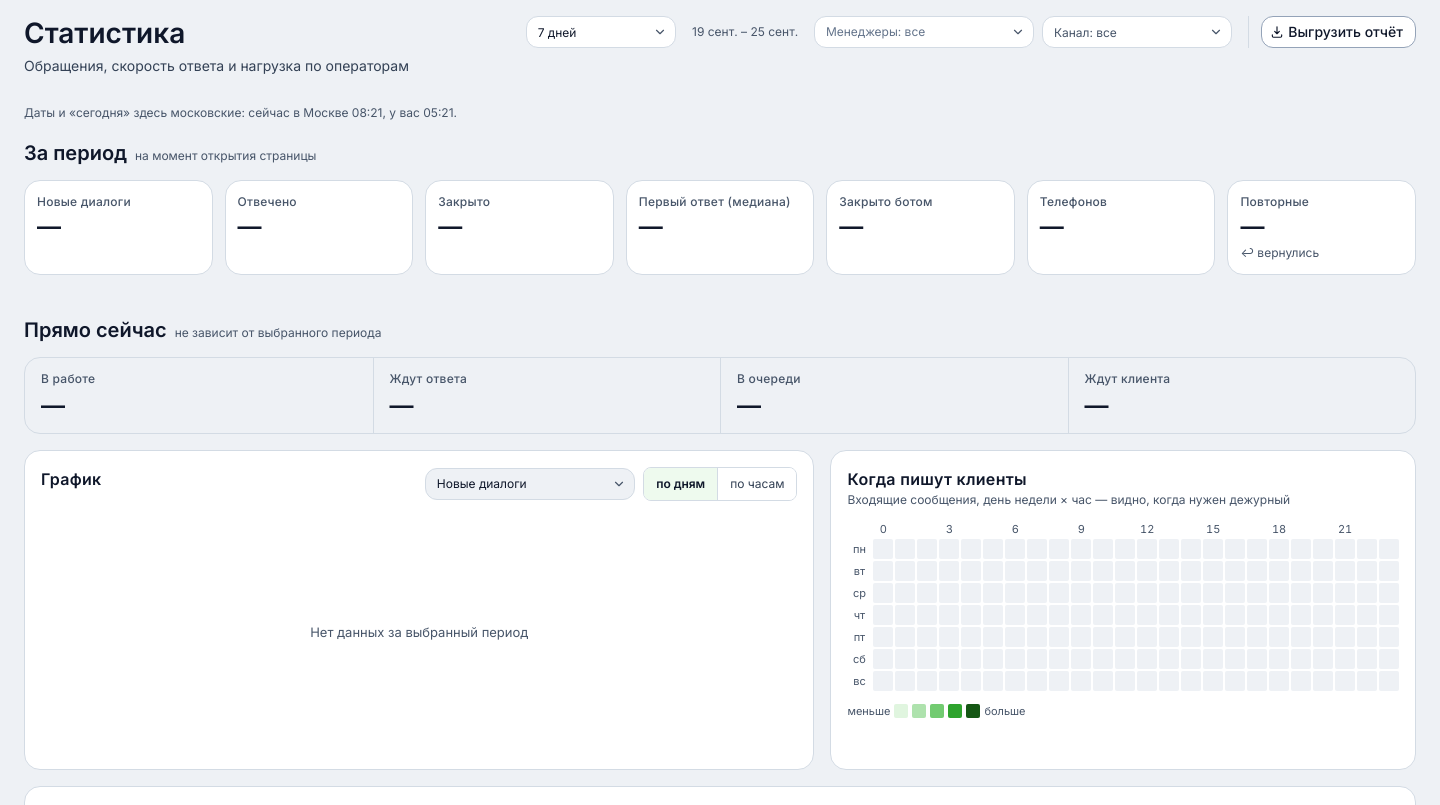
Test: Статистика: пункт «Произвольный» › календарь открыт на том периоде, что человек и так видел
What coordinates should you click on to do the following:
click the field named "Период"
I would click on:
 (601, 32)
Its box is [526,16,676,48].
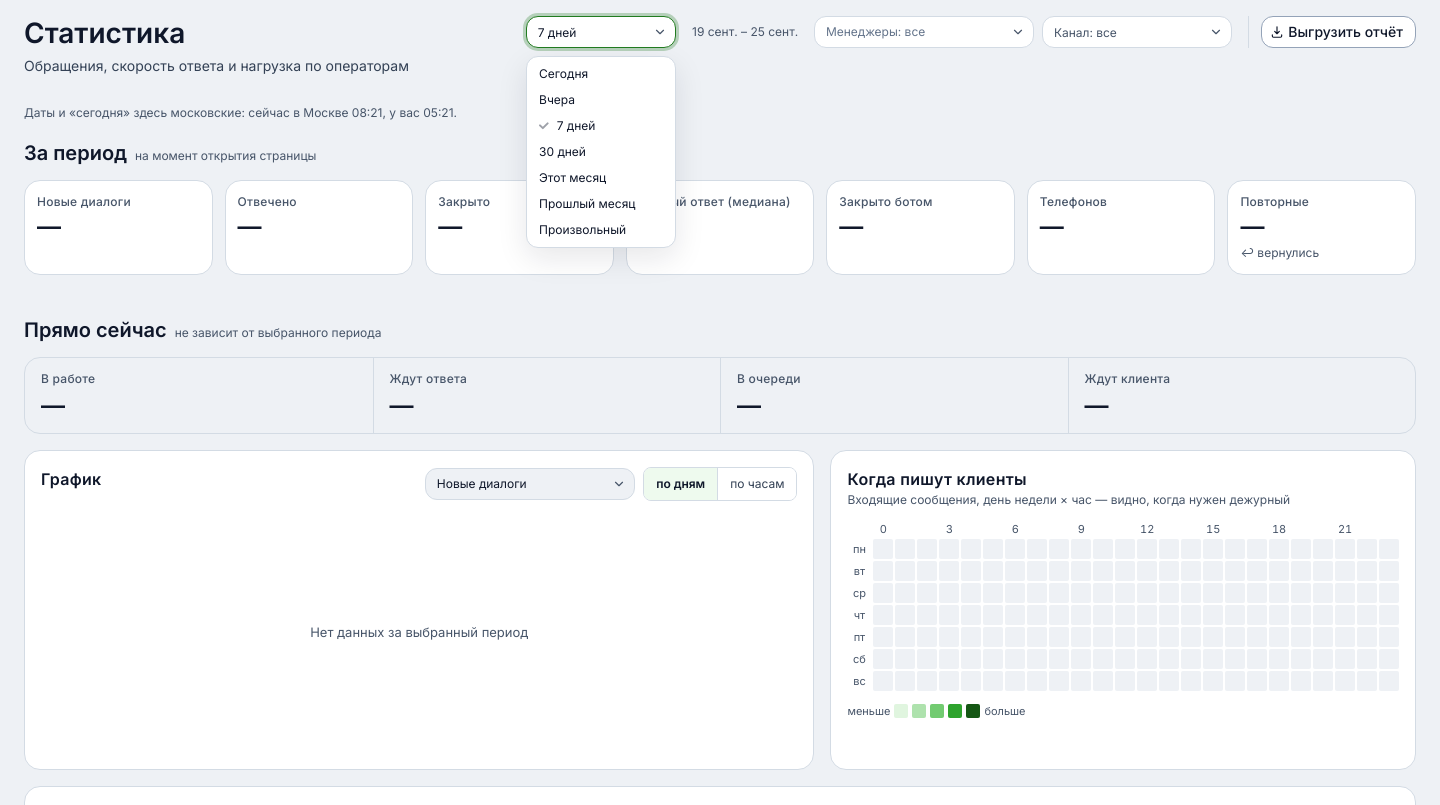
What coordinates should you click on to do the following:
click the option "Произвольный"
I would click on:
 (583, 230)
Its box is [539,222,626,237].
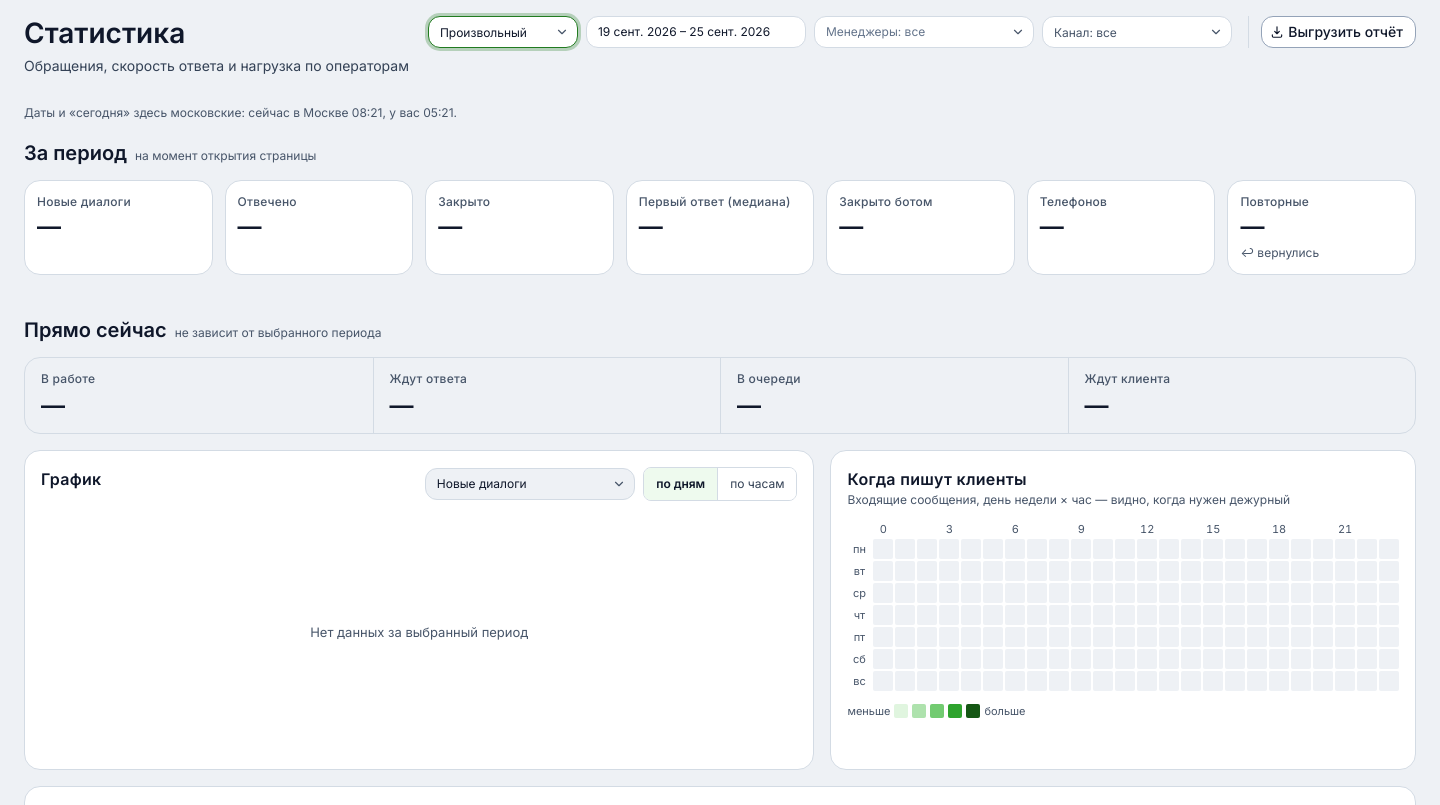
Expected: the button with aria-label "Произвольный период" reads "19 сент. 2026 – 25 сент. 2026", [586,16,806,48]
